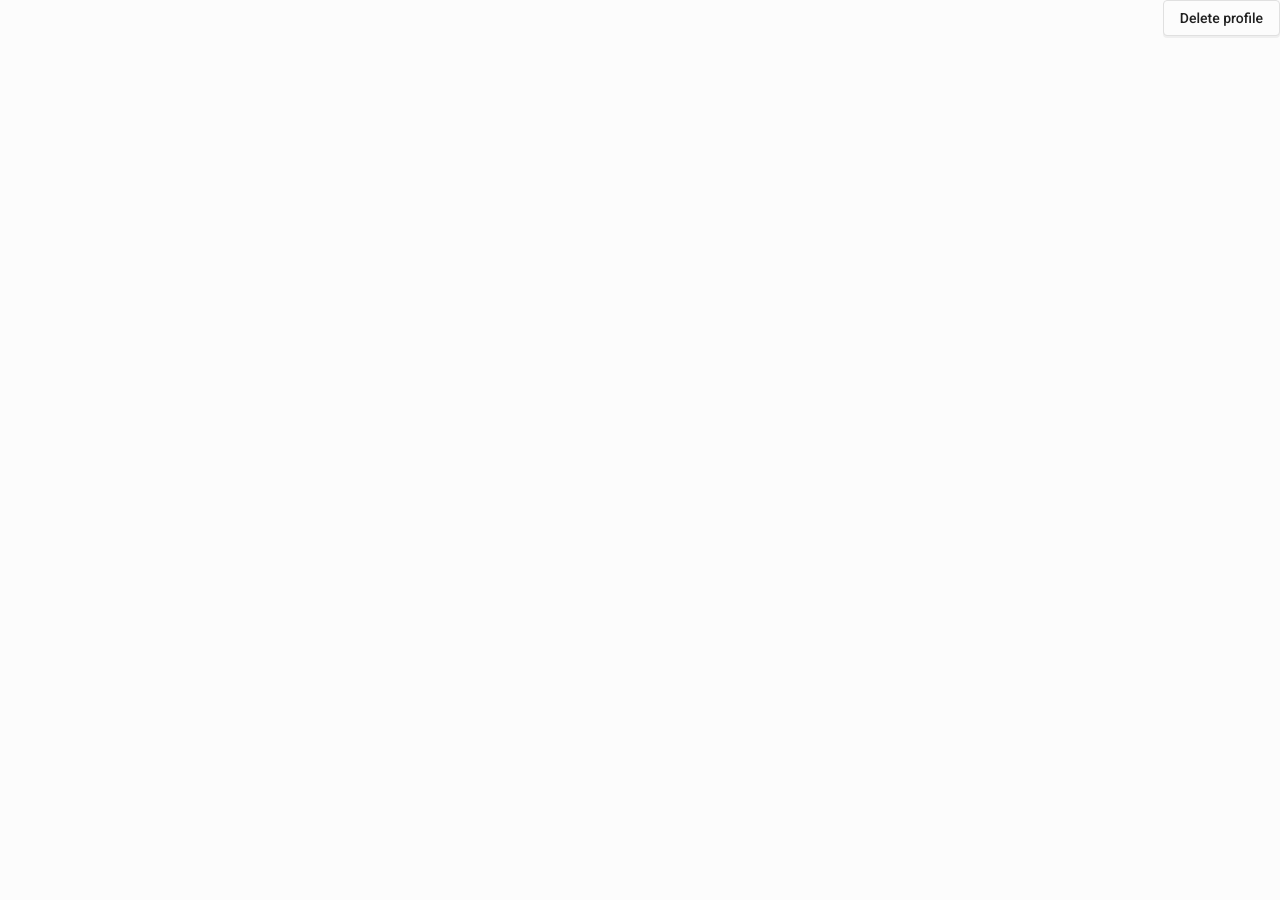
DeleteProfileButton › asks first, then deletes
Later steps or results of the test are not shown.
Step 1. Click the button "Delete profile" → [1221, 18], box [1163,0,1279,36]
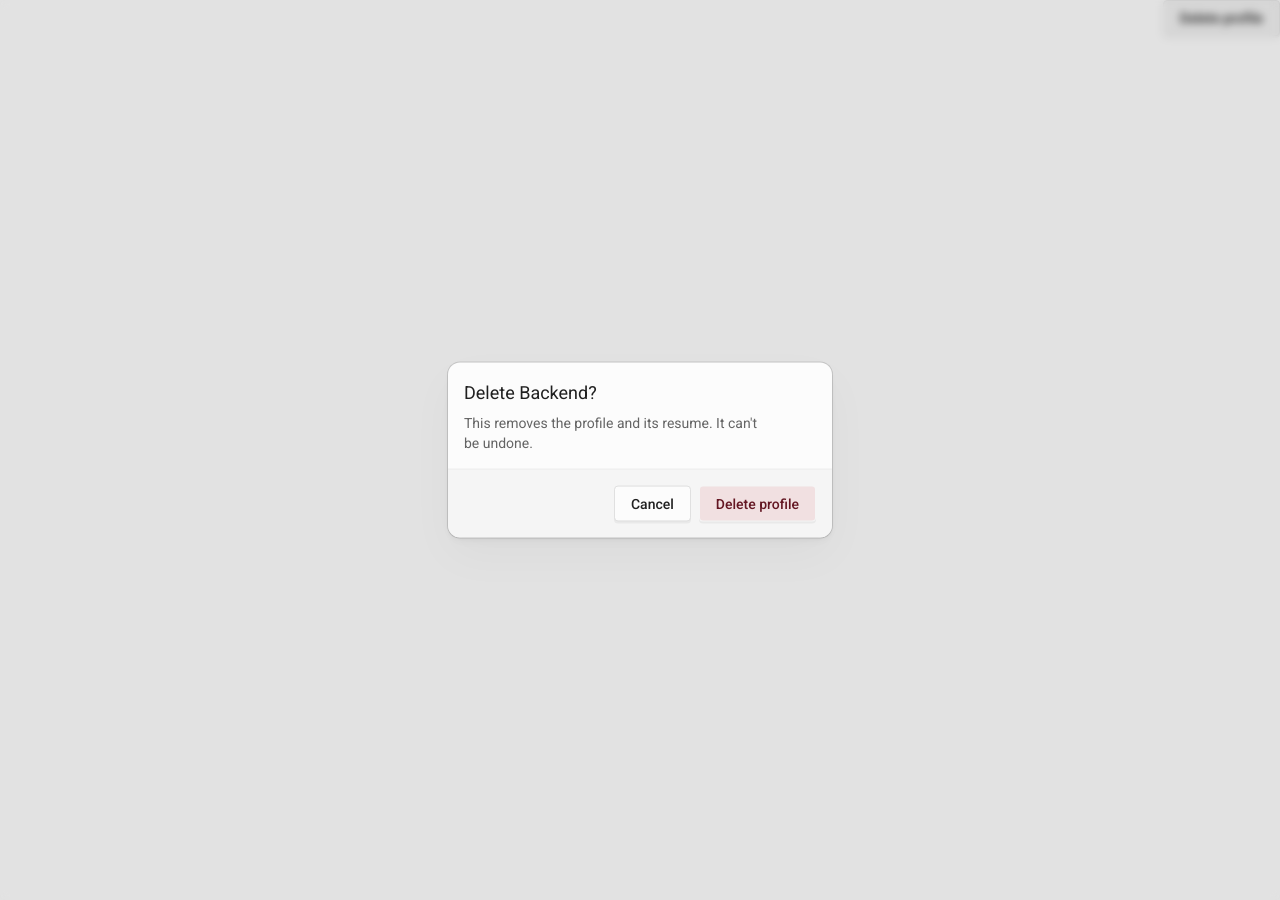
Check: the heading "Delete Backend?" is shown, box [464,378,597,406]
Check: the text "This removes the profile and its resume. It can't be undone." is shown, box [464,414,757,450]
